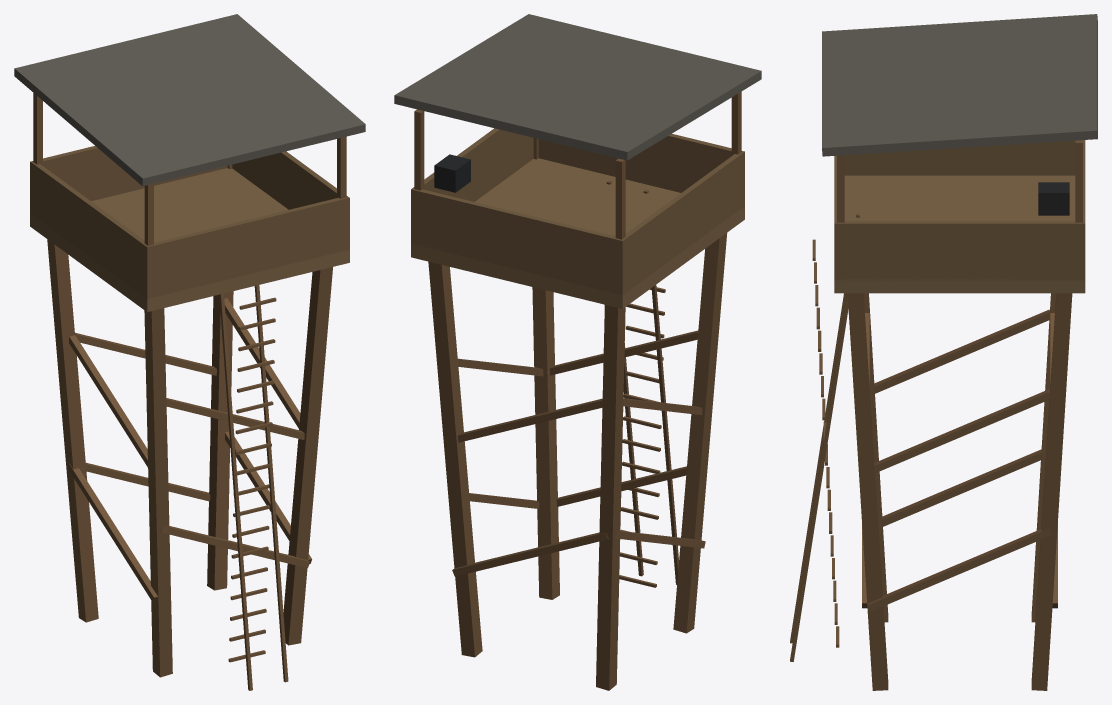
The model's file is Watchtower.fbx.
3 renders of one model, left to right at view 1: azimuth 30°, elevation 25°; view 2: azimuth 150°, elevation 25°; view 3: azimuth 270°, elevation 25°, orthographic. The views are drawn at different scales.
Parts seen in each view (by area): view 1: Roof, Deck, Rail1, Leg2, Leg3, Leg1, Rail3, Leg0, Rail0, Rail2, LadderRailL, LadderRailR (+11 smaller); view 2: Roof, Deck, Rail0, Leg0, Leg3, Leg1, Rail3, Leg2, Rail1, Rail2, LadderRailL, BraceX2.21 (+12 smaller); view 3: Roof, Rail2, Deck, Leg0, Rail3, Leg2, BraceY2.21, BraceY4.61, BraceY4.6-1, BraceY2.2-1, LadderRailR, Leg3 (+7 smaller).
Part boxes in pixels (bbox=[...]): Roof: bbox=[14, 14, 365, 186]; Deck: bbox=[30, 168, 349, 312]; Rail1: bbox=[144, 197, 349, 299]; Leg2: bbox=[283, 267, 332, 645]; Leg3: bbox=[144, 308, 172, 677]; Leg1: bbox=[47, 239, 98, 622]; Rail3: bbox=[30, 162, 152, 299]; Leg0: bbox=[207, 291, 233, 590]; Rail0: bbox=[30, 146, 227, 214]; Rail2: bbox=[232, 151, 349, 249]; LadderRailL: bbox=[219, 293, 252, 690]; LadderRailR: bbox=[254, 285, 288, 682]; Roof: bbox=[394, 14, 761, 160]; Deck: bbox=[411, 158, 744, 308]; Rail0: bbox=[411, 187, 625, 294]; Leg0: bbox=[428, 261, 482, 657]; Leg3: bbox=[673, 233, 727, 633]; Leg1: bbox=[596, 304, 625, 690]; Rail3: bbox=[617, 151, 744, 295]; Leg2: bbox=[532, 287, 559, 599]; Rail1: bbox=[538, 134, 744, 208]; Rail2: bbox=[411, 128, 533, 244]; LadderRailL: bbox=[643, 189, 678, 584]; BraceX2.21: bbox=[452, 532, 608, 576]; Roof: bbox=[822, 14, 1097, 156]; Rail2: bbox=[834, 221, 1085, 280]; Deck: bbox=[834, 175, 1085, 293]; Leg0: bbox=[1031, 293, 1072, 690]; Rail3: bbox=[844, 140, 1075, 175]; Leg2: bbox=[847, 293, 888, 690]; BraceY2.21: bbox=[867, 528, 1052, 611]; BraceY4.61: bbox=[874, 389, 1049, 473]; BraceY4.6-1: bbox=[874, 309, 1049, 393]; BraceY2.2-1: bbox=[882, 449, 1041, 526]; LadderRailR: bbox=[790, 293, 848, 661]; Leg3: bbox=[863, 293, 888, 622].
Bounding box in the file's own units: 440 × 491 × 1023.
